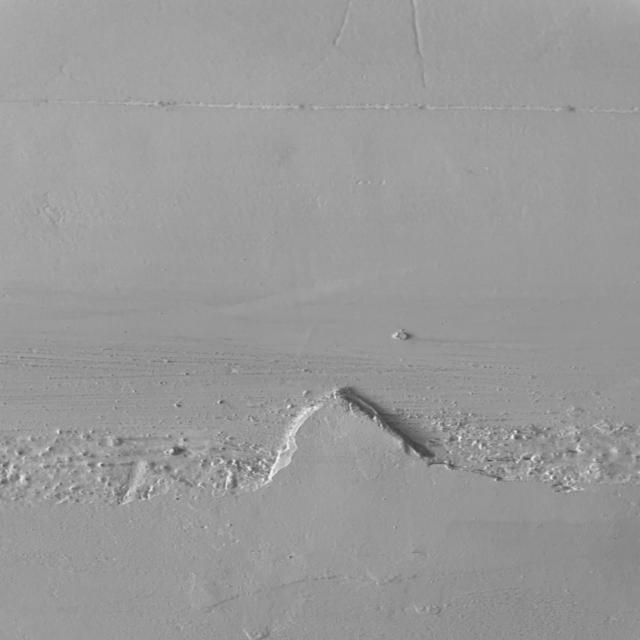rough and patchy surface: (0, 311, 640, 518), (173, 558, 634, 640), (3, 94, 640, 120)
